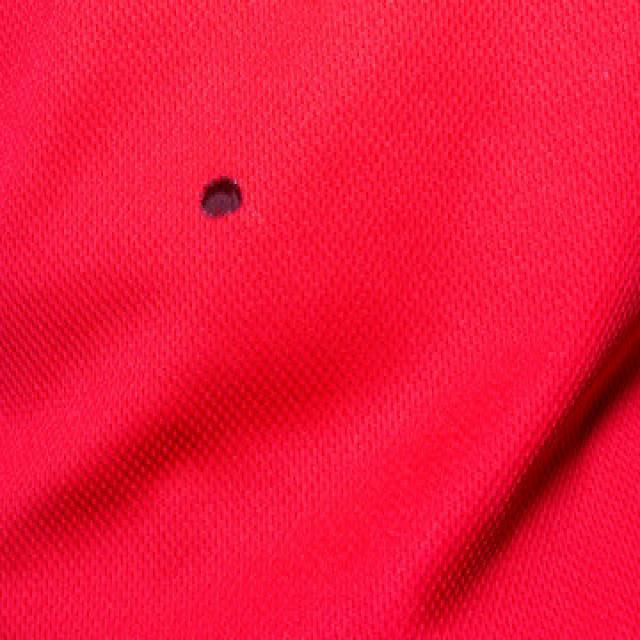Hole: (202, 177, 242, 217)
